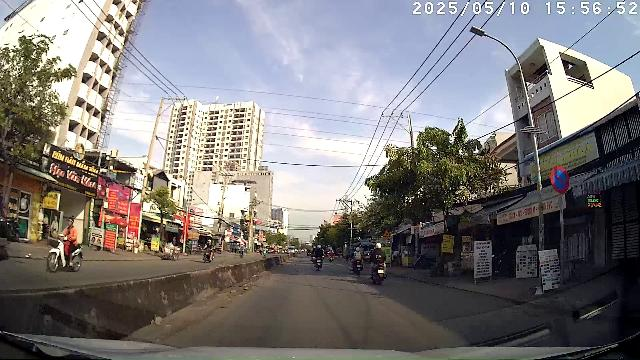131a-cam-do-xe: (550, 166, 570, 194)
